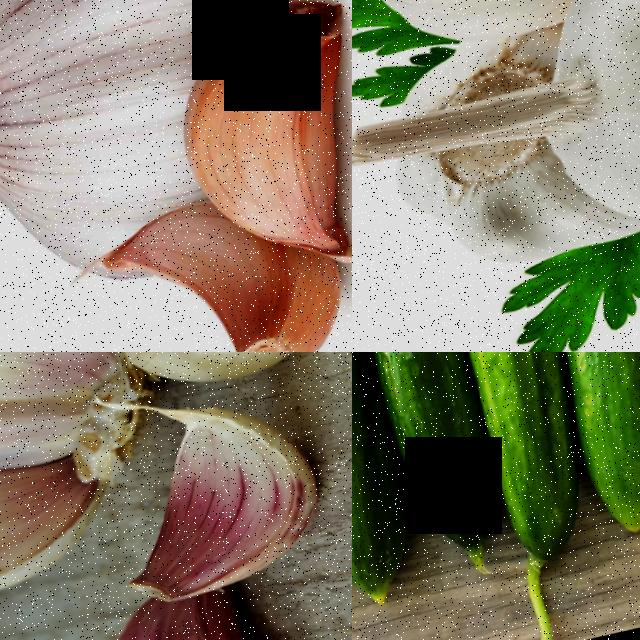cucumber: (409, 352, 607, 597), (352, 352, 506, 579), (511, 352, 640, 549), (352, 352, 421, 626)
garlic: (0, 0, 212, 278), (105, 387, 333, 610), (164, 0, 352, 261), (0, 352, 170, 634), (500, 0, 640, 280), (115, 194, 348, 352), (98, 577, 323, 640), (107, 352, 333, 405)
